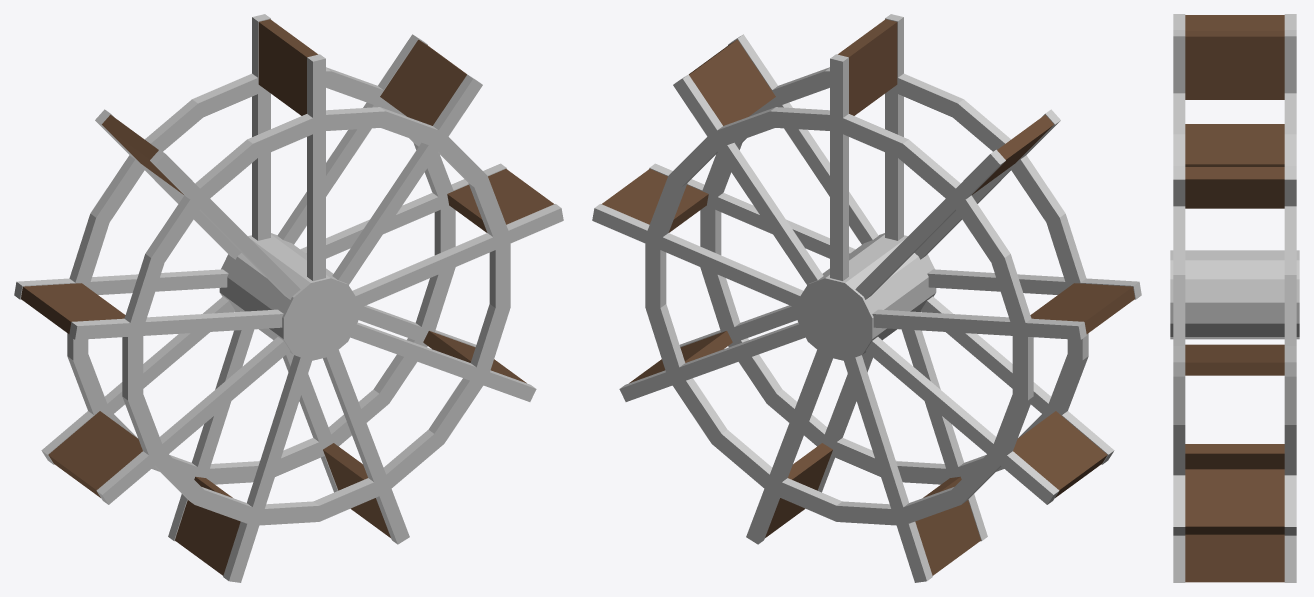
Rendered from watermill_wheel.obj.
3 renders of one model, left to right at view 1: azimuth 30°, elevation 25°; view 2: azimuth 150°, elevation 25°; view 3: azimuth 270°, elevation 25°, orthographic.
Parts seen in each view (by area): view 1: watermill_wheel_rim_S, watermill_wheel_rim_N, watermill_wheel_hub, watermill_wheel_spoke_S8, watermill_wheel_spoke_S3, watermill_wheel_spoke_S4, watermill_wheel_paddle_3, watermill_wheel_paddle_8, watermill_wheel_spoke_S7, watermill_wheel_spoke_S0, watermill_wheel_spoke_S2, watermill_wheel_paddle_0 (+18 smaller); view 2: watermill_wheel_rim_N, watermill_wheel_rim_S, watermill_wheel_hub, watermill_wheel_spoke_N3, watermill_wheel_spoke_N8, watermill_wheel_spoke_N4, watermill_wheel_spoke_N7, watermill_wheel_paddle_3, watermill_wheel_paddle_8, watermill_wheel_spoke_N0, watermill_wheel_spoke_N2, watermill_wheel_paddle_0 (+18 smaller); view 3: watermill_wheel_hub, watermill_wheel_paddle_0, watermill_wheel_paddle_6, watermill_wheel_paddle_5, watermill_wheel_paddle_2, watermill_wheel_paddle_8, watermill_wheel_rim_N, watermill_wheel_rim_S, watermill_wheel_paddle_7, watermill_wheel_paddle_4, watermill_wheel_paddle_1, watermill_wheel_spoke_N0 (+11 smaller).
Boxes of the visible parts, <box> form: watermill_wheel_rim_S: <box>122,107,510,525</box>; watermill_wheel_rim_N: <box>67,67,455,484</box>; watermill_wheel_hub: <box>219,233,358,360</box>; watermill_wheel_spoke_S8: <box>332,74,482,284</box>; watermill_wheel_spoke_S3: <box>96,337,289,504</box>; watermill_wheel_spoke_S4: <box>223,355,311,582</box>; watermill_wheel_paddle_3: <box>48,411,142,497</box>; watermill_wheel_paddle_8: <box>380,39,466,125</box>; watermill_wheel_spoke_S7: <box>352,204,563,308</box>; watermill_wheel_spoke_S0: <box>307,54,325,280</box>; watermill_wheel_spoke_S2: <box>69,309,283,339</box>; watermill_wheel_paddle_0: <box>258,19,318,115</box>; watermill_wheel_rim_N: <box>645,107,1033,525</box>; watermill_wheel_rim_S: <box>700,67,1088,484</box>; watermill_wheel_hub: <box>797,233,936,360</box>; watermill_wheel_spoke_N3: <box>866,337,1059,504</box>; watermill_wheel_spoke_N8: <box>673,74,823,284</box>; watermill_wheel_spoke_N4: <box>844,355,932,582</box>; watermill_wheel_spoke_N7: <box>592,204,803,308</box>; watermill_wheel_paddle_3: <box>1013,411,1107,497</box>; watermill_wheel_paddle_8: <box>689,39,775,125</box>; watermill_wheel_spoke_N0: <box>830,54,848,280</box>; watermill_wheel_spoke_N2: <box>872,309,1086,339</box>; watermill_wheel_paddle_0: <box>837,19,897,115</box>; watermill_wheel_hub: <box>1170,250,1299,339</box>; watermill_wheel_paddle_0: <box>1185,31,1284,99</box>; watermill_wheel_paddle_6: <box>1185,469,1284,534</box>; watermill_wheel_paddle_5: <box>1185,534,1284,582</box>; watermill_wheel_paddle_2: <box>1185,124,1284,166</box>; watermill_wheel_paddle_8: <box>1185,167,1284,208</box>; watermill_wheel_rim_N: <box>1284,93,1296,475</box>; watermill_wheel_rim_S: <box>1173,93,1185,475</box>; watermill_wheel_paddle_7: <box>1185,344,1284,375</box>; watermill_wheel_paddle_4: <box>1185,444,1284,469</box>; watermill_wheel_paddle_1: <box>1185,15,1284,30</box>; watermill_wheel_spoke_N0: <box>1284,30,1296,93</box>.
Size of the model in its own units: 3.8 by 3.74 by 0.86.
